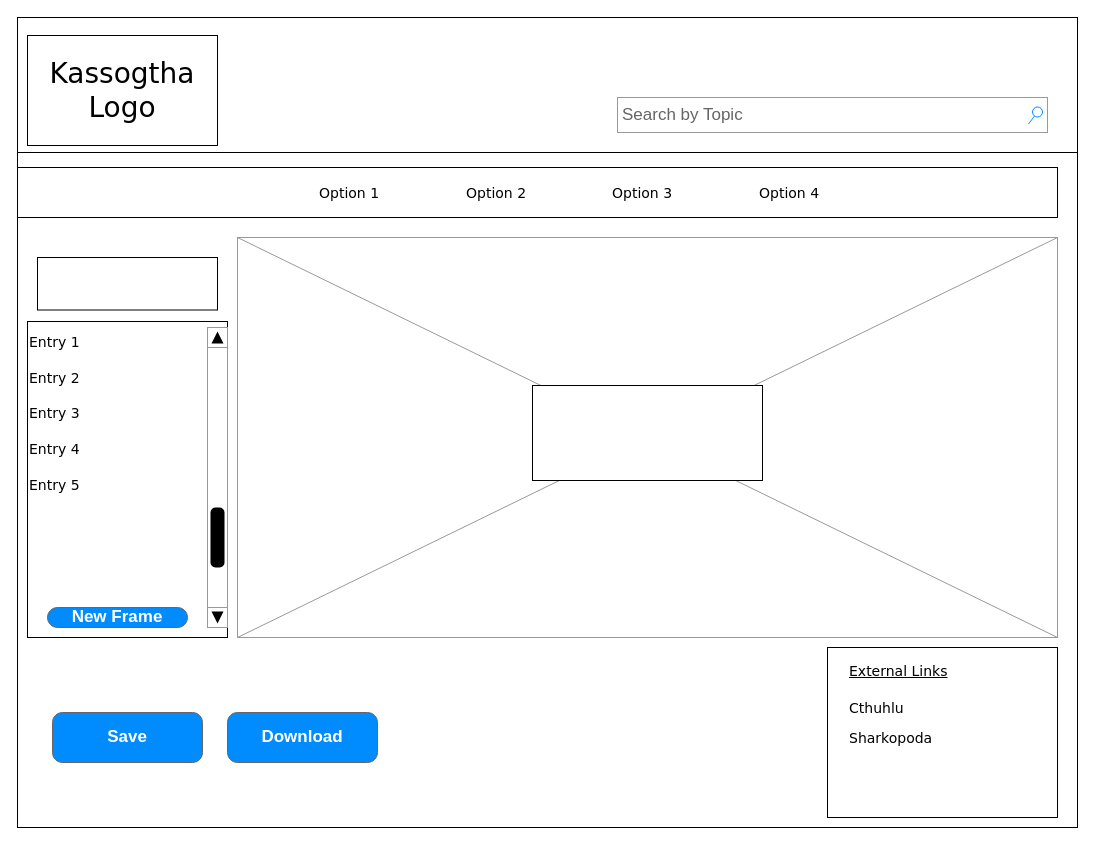
The diagram is 1095 pixels wide and 845 high, and some of its shapes have lost their labels. Each missing label, with the box of its shape:
CSV View of Frames: (532, 384, 762, 480)
Frames: (36, 256, 218, 310)
